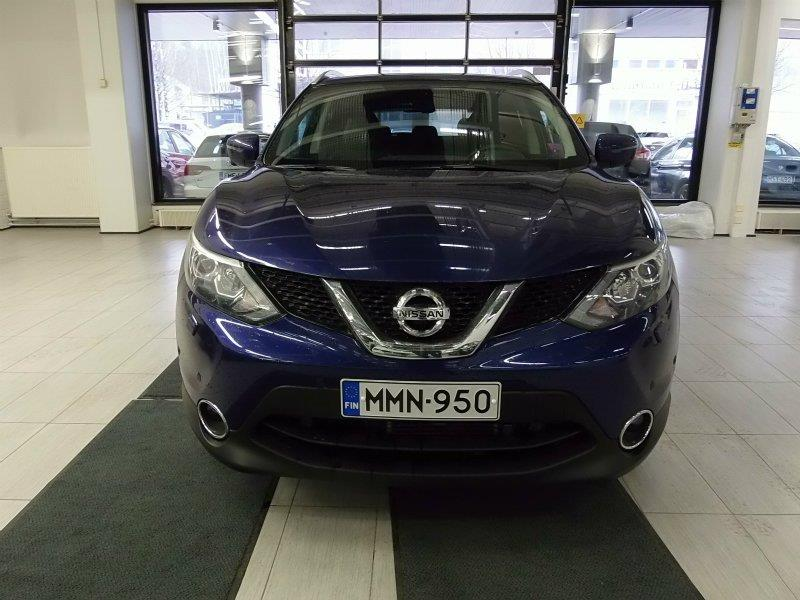license: (340, 376, 500, 424)
